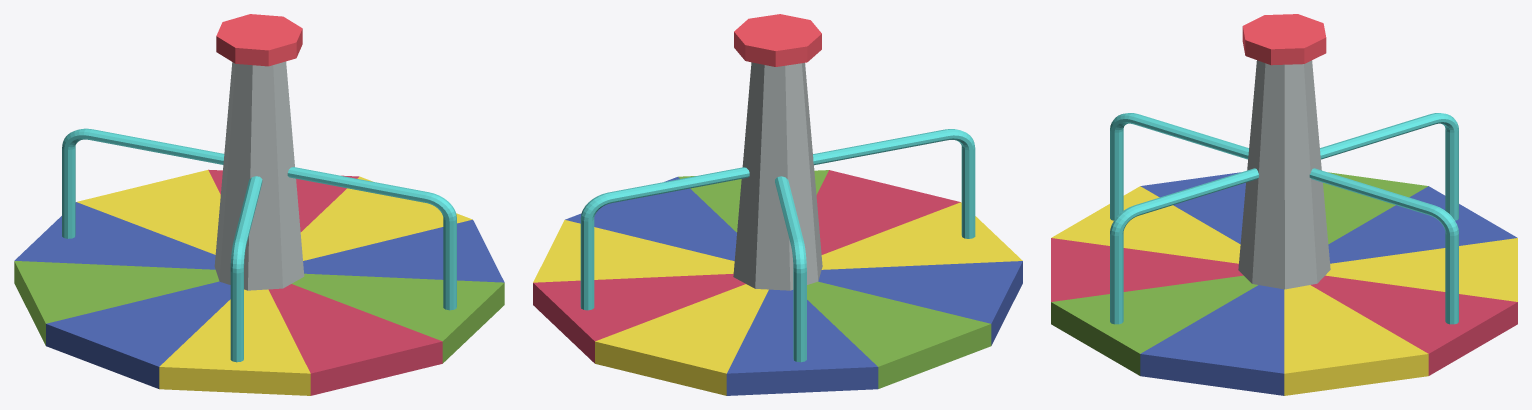
File: D1_PLAYGROUND_2.fbx
3 views of the same model, side by side, from view 1: azimuth 30°, elevation 25°; view 2: azimuth 150°, elevation 25°; view 3: azimuth 270°, elevation 25° (orthographic).
Visible parts, largest first — view 1: D1_PLAYGROUND_2.001; view 2: D1_PLAYGROUND_2.001; view 3: D1_PLAYGROUND_2.001.
Part boxes in pixels (x1=…): D1_PLAYGROUND_2.001: x1=14, y1=14, x2=504, y2=395; D1_PLAYGROUND_2.001: x1=533, y1=14, x2=1022, y2=395; D1_PLAYGROUND_2.001: x1=1051, y1=14, x2=1517, y2=395.
Bounding box in the file's own units: 367 × 224 × 349.
